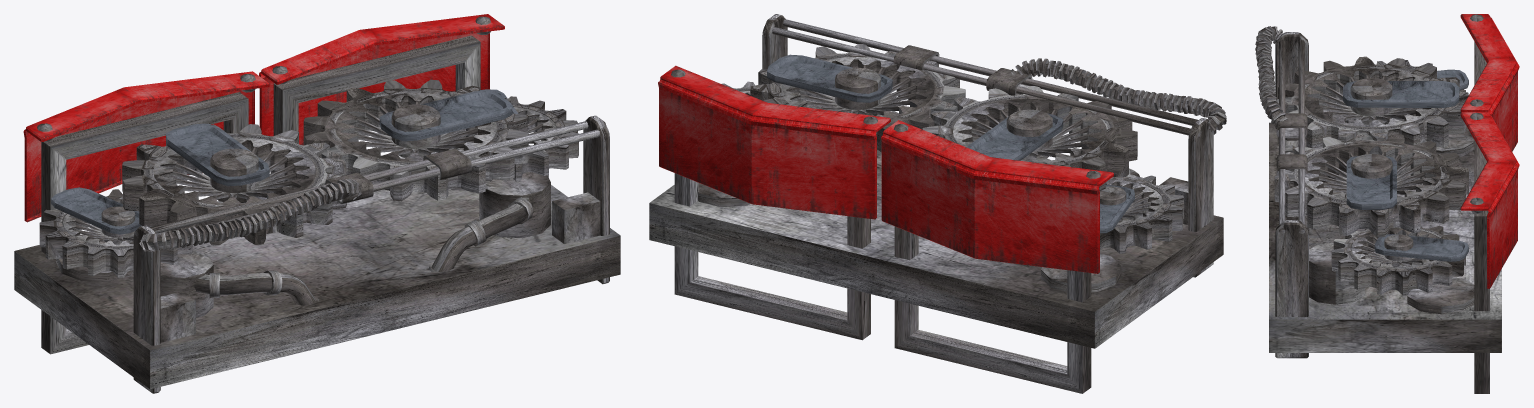
File: static.glb
The picture shows the model from 3 angles, left to right: view 1: azimuth 30°, elevation 25°; view 2: azimuth 150°, elevation 25°; view 3: azimuth 270°, elevation 25°; orthographic projection. The views are drawn at different scales.
Visible parts, largest first — view 1: Cube, Cube_65, Sweep_5, Extrude_remesh, Extrude_remesh_2, Extrude_remesh_3, Cube_43, Cylinder_1_3_2, Sweep_4, Cube_1, Extrude_6, Extrude (+16 smaller); view 2: Cube_65, Cube, Sweep_5, Extrude_remesh_2, Cube_43, Extrude_6, Extrude_remesh, Extrude_remesh_3, Extrude, Cylinder_1, Cylinder, Extrude_3 (+9 smaller); view 3: Cube, Cube_65, Extrude_remesh, Extrude_remesh_2, Cube_43, Extrude_remesh_3, Extrude_3, Sweep_5, Extrude_6, Cylinder_4, Extrude_5, Cylinder_1_3_2 (+11 smaller).
Part boxes in pixels (left/top/right/bottom): Cube: left=14, top=156, right=620, bottom=389; Cube_65: left=23, top=14, right=504, bottom=222; Sweep_5: left=41, top=35, right=480, bottom=354; Extrude_remesh: left=303, top=79, right=528, bottom=201; Extrude_remesh_2: left=122, top=124, right=346, bottom=245; Extrude_remesh_3: left=39, top=96, right=578, bottom=277; Cube_43: left=133, top=115, right=609, bottom=393; Cylinder_1_3_2: left=160, top=172, right=550, bottom=317; Sweep_4: left=194, top=197, right=532, bottom=305; Cube_1: left=160, top=192, right=600, bottom=342; Extrude_6: left=153, top=137, right=315, bottom=205; Extrude: left=379, top=90, right=512, bottom=141; Cube_65: left=658, top=65, right=1113, bottom=273; Cube: left=649, top=150, right=1223, bottom=348; Sweep_5: left=674, top=173, right=1091, bottom=393; Extrude_remesh_2: left=922, top=86, right=1137, bottom=190; Cube_43: left=762, top=14, right=1213, bottom=277; Extrude_6: left=953, top=99, right=1106, bottom=163; Extrude_remesh: left=750, top=44, right=965, bottom=152; Extrude_remesh_3: left=722, top=81, right=1183, bottom=253; Extrude: left=767, top=54, right=892, bottom=102; Cylinder_1: left=783, top=19, right=1210, bottom=129; Cylinder: left=763, top=26, right=1201, bottom=137; Extrude_3: left=781, top=57, right=934, bottom=118; Cube: left=1269, top=122, right=1501, bottom=352; Cube_65: left=1460, top=14, right=1519, bottom=288; Extrude_remesh: left=1274, top=132, right=1468, bottom=237; Extrude_remesh_2: left=1275, top=56, right=1468, bottom=149; Cube_43: left=1275, top=32, right=1308, bottom=358; Extrude_remesh_3: left=1331, top=60, right=1465, bottom=295; Extrude_3: left=1305, top=144, right=1440, bottom=200; Sweep_5: left=1474, top=41, right=1489, bottom=393; Extrude_6: left=1305, top=68, right=1436, bottom=127; Cylinder_4: left=1407, top=125, right=1474, bottom=314; Extrude_5: left=1343, top=81, right=1459, bottom=107; Cylinder_1_3_2: left=1306, top=106, right=1365, bottom=304.
Bounding box in the file's own units: 4.41 × 1.87 × 2.27.
Materials: 3 (3 with a texture image).
